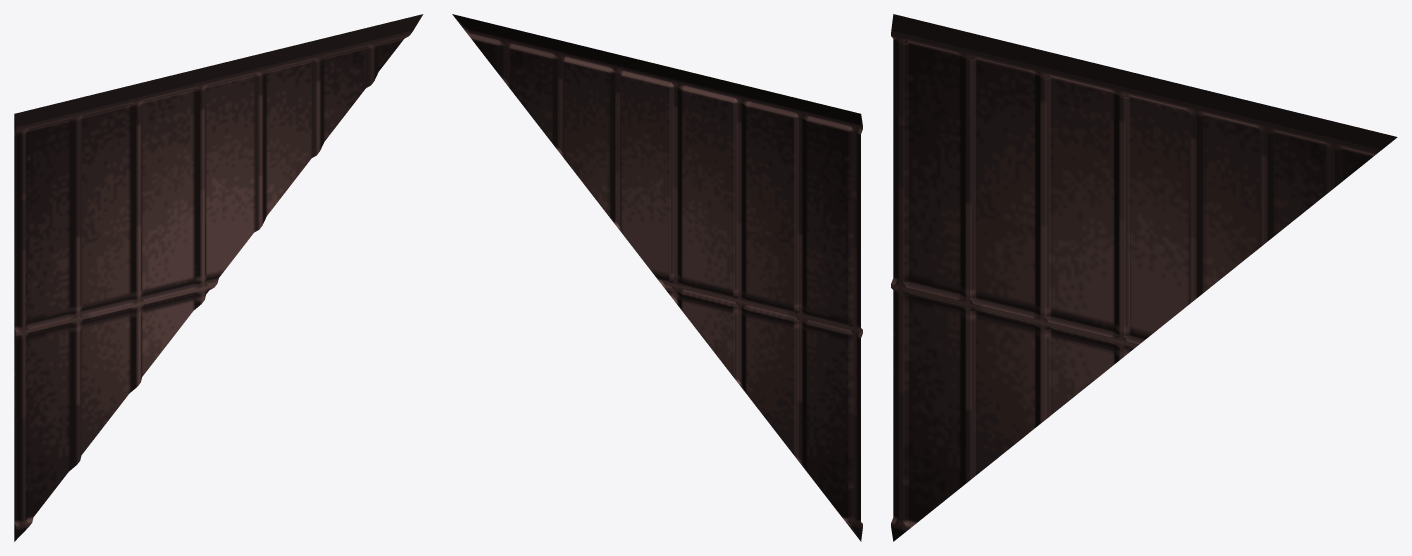
The model's file is eng2_1_slice45.fbx.
3 views of the same model, side by side, from view 1: azimuth 30°, elevation 25°; view 2: azimuth 150°, elevation 25°; view 3: azimuth 330°, elevation 25° (orthographic). The views are drawn at different scales.
Parts seen in each view (by area): view 1: eng2_1_mesh; view 2: eng2_1_mesh; view 3: eng2_1_mesh.
Part boxes in pixels (x1,y1,x2,y2): eng2_1_mesh: [14, 14, 423, 541]; eng2_1_mesh: [452, 14, 862, 541]; eng2_1_mesh: [891, 14, 1397, 541].
Bounding box in the file's own units: 256 × 256 × 2.
